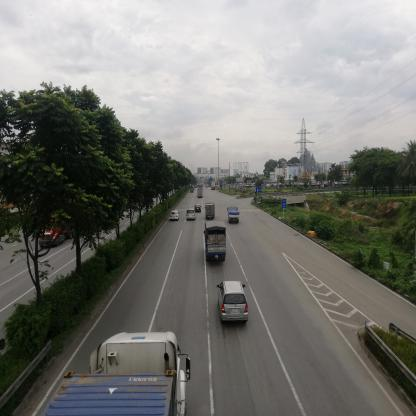car: (217, 282, 250, 323), (187, 211, 197, 221), (171, 211, 179, 220), (197, 205, 203, 212)
container: (47, 331, 189, 416)
truck: (207, 223, 227, 263), (228, 207, 241, 222), (207, 205, 216, 220), (199, 186, 204, 201)
